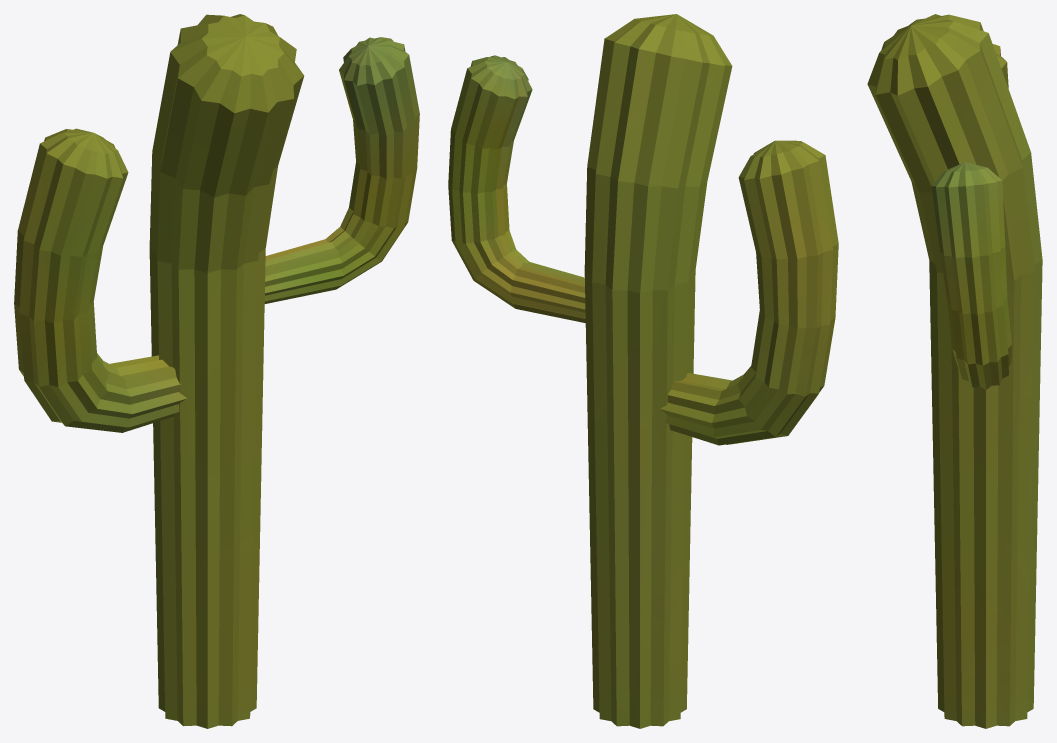
File: mega-pack-cylinder-188.glb
3 views of the same model, side by side, from view 1: azimuth 30°, elevation 25°; view 2: azimuth 150°, elevation 25°; view 3: azimuth 270°, elevation 25° (orthographic). The views are drawn at different scales.
Parts seen in each view (by area): view 1: Cylinder.188; view 2: Cylinder.188; view 3: Cylinder.188.
Part boxes in pixels (x1,y1,x2,y2): Cylinder.188: (14,14,419,728); Cylinder.188: (448,14,838,728); Cylinder.188: (867,14,1042,728).
Bounding box in the file's own units: 0.7791 × 1.33 × 0.3068.
Materials: 1 (1 with a texture image).
